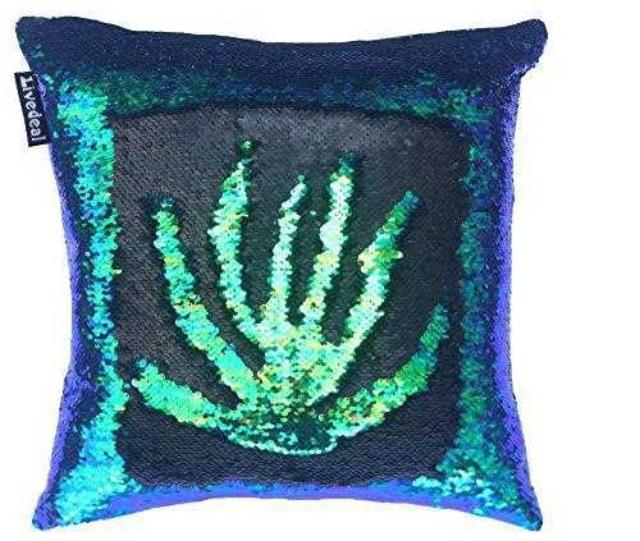pillow: (12, 13, 548, 532)
